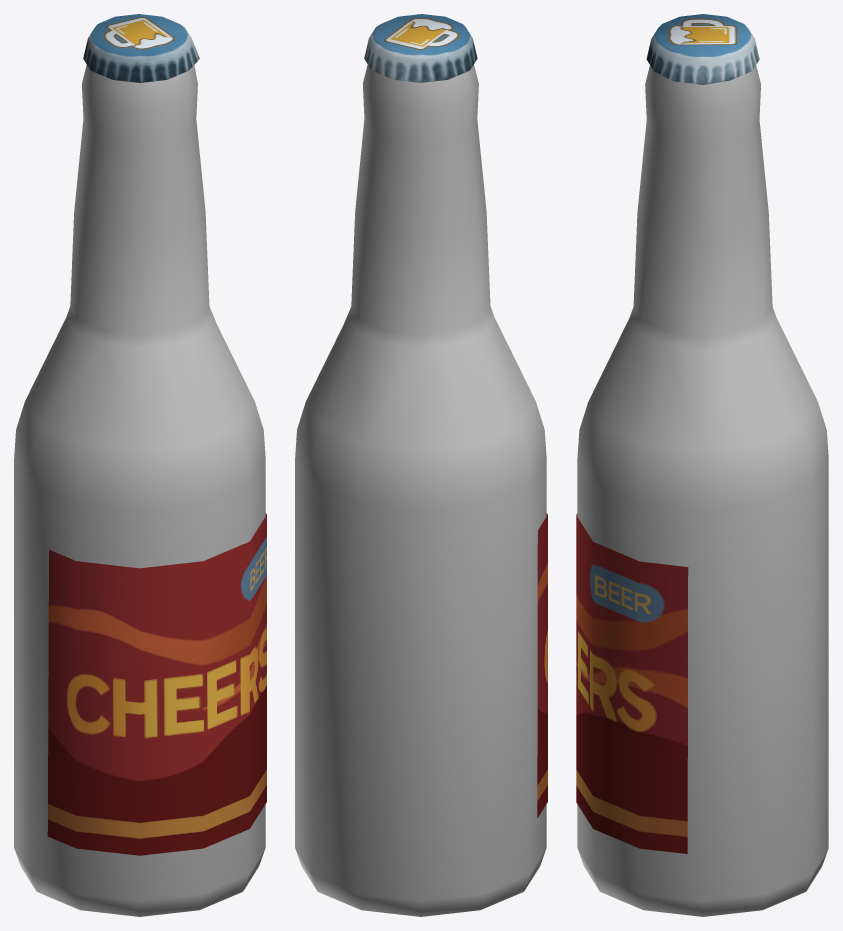
File: Ht_jiubei_10.FBX
The picture shows the model from 3 angles, left to right: view 1: azimuth 30°, elevation 25°; view 2: azimuth 150°, elevation 25°; view 3: azimuth 270°, elevation 25°; orthographic projection.
Parts seen in each view (by area): view 1: Ht_jiubei_10_01, Ht_jiubei_10_02; view 2: Ht_jiubei_10_01, Ht_jiubei_10_02; view 3: Ht_jiubei_10_01, Ht_jiubei_10_02.
Boxes of the visible parts, x1,y1,x2,y2 form: Ht_jiubei_10_01: (14,64,265,916); Ht_jiubei_10_02: (47,14,266,855); Ht_jiubei_10_01: (295,64,546,916); Ht_jiubei_10_02: (364,14,547,817); Ht_jiubei_10_01: (577,65,828,916); Ht_jiubei_10_02: (576,14,759,853).
Size of the model in its own units: 6.04 by 22.3 by 6.07.
